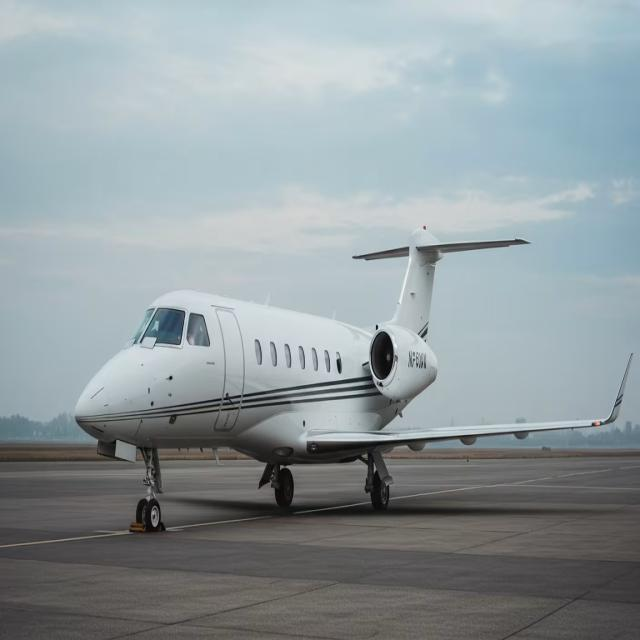jet: (26, 142, 548, 601)
